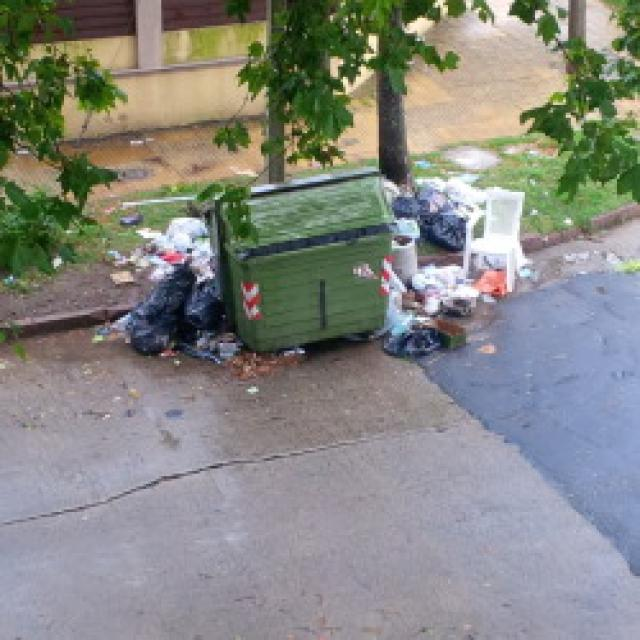garbage: (399, 184, 530, 366), (125, 205, 215, 363), (417, 164, 512, 197), (105, 112, 166, 158)
